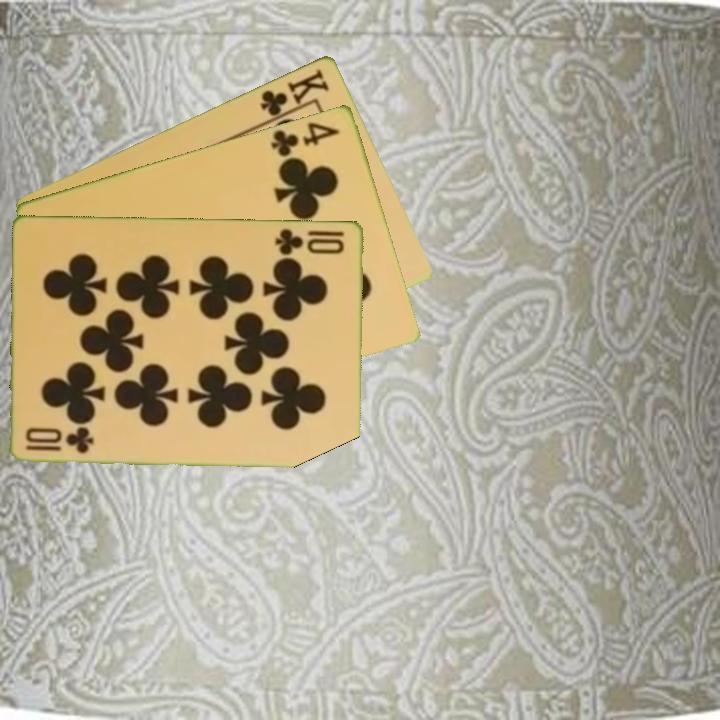10c: (272, 225, 348, 258), (22, 424, 97, 456)
4c: (267, 118, 343, 163)
Kc: (256, 65, 333, 125)
